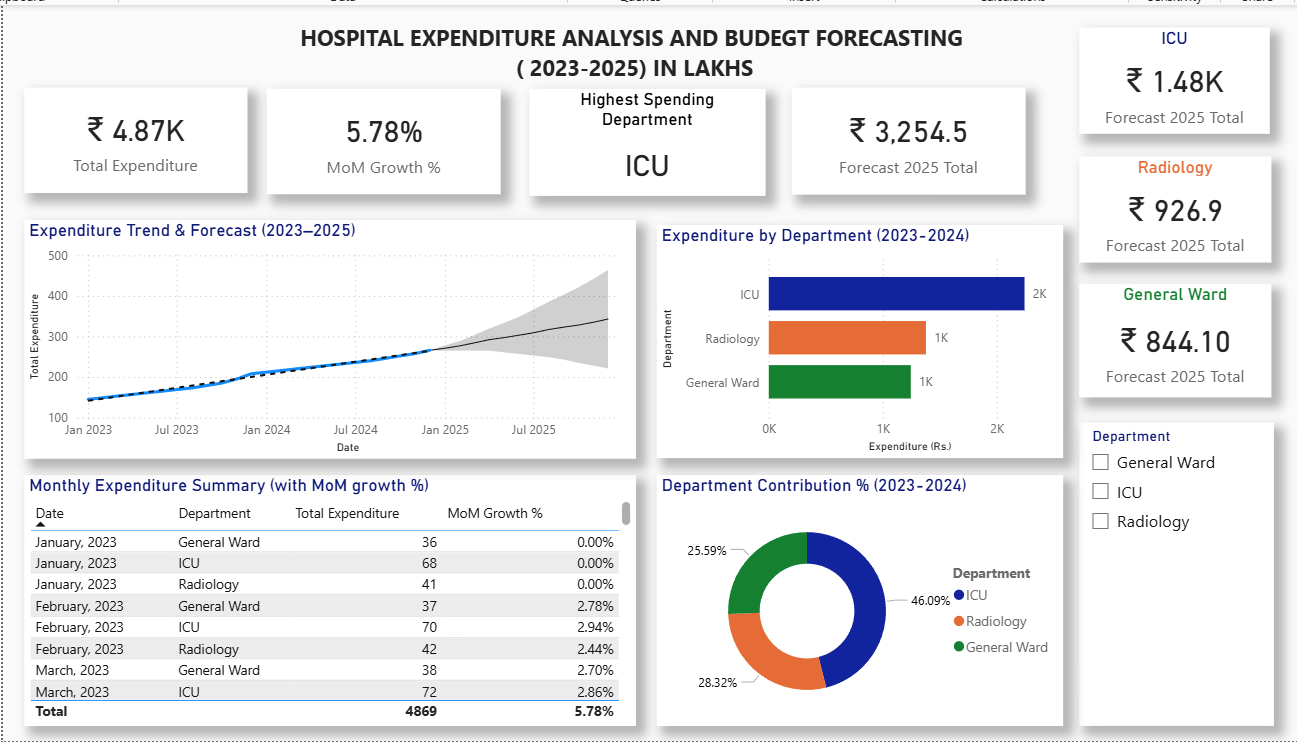

The page's visual inventory and layout, read from the dashboard file:
{"tool":"powerbi","page":{"name":"Page 1","canvas":[1280,720],"ordinal":0},"visuals":[{"type":"tableEx","title":"Monthly Expenditure Summary (with MoM growth %)","fields":{"Values":["Hospital Expenditure.Date","Hospital Expenditure.Department","Hospital Expenditure.Total Expenditure","Hospital Expenditure.MoM Growth %"]},"box":[20.6,459.7,598.3,245.6],"z":0},{"type":"card","fields":{"Values":["Hospital Expenditure.Total Expenditure"]},"box":[20.6,81,218.2,102.9],"z":1000},{"type":"card","fields":{"Values":["Hospital Expenditure.MoM Growth %"]},"box":[258,82.3,229.2,102.9],"z":2000},{"type":"card","title":"Highest Spending Department","fields":{"Values":["Min(Hospital Expenditure.Department)"]},"box":[514.8,81.9,231.1,105.2],"z":3000},{"type":"lineChart","title":"Expenditure Trend & Forecast (2023–2025)","fields":{"Category":["Hospital Expenditure.Date"],"Y":["Hospital Expenditure.Total Expenditure"]},"box":[20.6,209.9,598.3,233.3],"z":4000},{"type":"slicer","fields":{"Values":["Hospital Expenditure.Department"]},"box":[1052.9,408.4,190.8,297.1],"z":5000},{"type":"barChart","title":"Expenditure by Department (2023-2024)","fields":{"Category":["Hospital Expenditure.Department"],"Y":["Hospital Expenditure.Total Expenditure"]},"box":[639.5,215.4,397.9,227.8],"z":6000},{"type":"card","fields":{"Values":["Hospital Expenditure.Forecast 2025 Total"]},"box":[771.6,80.7,228.7,105.2],"z":8000},{"type":"donutChart","title":"Department Contribution % (2023-2024)","fields":{"Category":["Hospital Expenditure.Department"],"Y":["Hospital Expenditure.Dept %"]},"box":[639.5,459.8,397.4,245.8],"z":9000},{"type":"textbox","box":[156.4,12.3,916.6,68.6],"z":10000},{"type":"card","title":"General Ward","fields":{"Values":["Hospital Expenditure.Forecast 2025 Total"]},"box":[1052.5,273.1,188,111.1],"z":11000},{"type":"card","title":"ICU","fields":{"Values":["Hospital Expenditure.Forecast 2025 Total"]},"box":[1052.5,22,186.6,104.3],"z":12000},{"type":"card","title":"Radiology","fields":{"Values":["Hospital Expenditure.Forecast 2025 Total"]},"box":[1052.5,148.2,188,104.3],"z":13000}]}

Visuals, with their boxes in screenshot pixels (x1, y1, x2, y2):
"Monthly Expenditure Summary (with MoM growth %)" tableEx: box=[44, 476, 642, 722]
card - Hospital Expenditure.Total Expenditure: box=[44, 98, 262, 201]
card - Hospital Expenditure.MoM Growth %: box=[281, 99, 510, 202]
"Highest Spending Department" card: box=[538, 99, 769, 204]
"Expenditure Trend & Forecast (2023–2025)" lineChart: box=[44, 227, 642, 460]
slicer - Hospital Expenditure.Department: box=[1076, 425, 1266, 722]
"Expenditure by Department (2023-2024)" barChart: box=[663, 232, 1060, 460]
card - Hospital Expenditure.Forecast 2025 Total: box=[795, 98, 1023, 203]
"Department Contribution % (2023-2024)" donutChart: box=[663, 476, 1060, 722]
textbox: box=[180, 29, 1096, 98]
"General Ward" card: box=[1075, 290, 1263, 401]
"ICU" card: box=[1075, 39, 1262, 143]
"Radiology" card: box=[1075, 165, 1263, 269]
